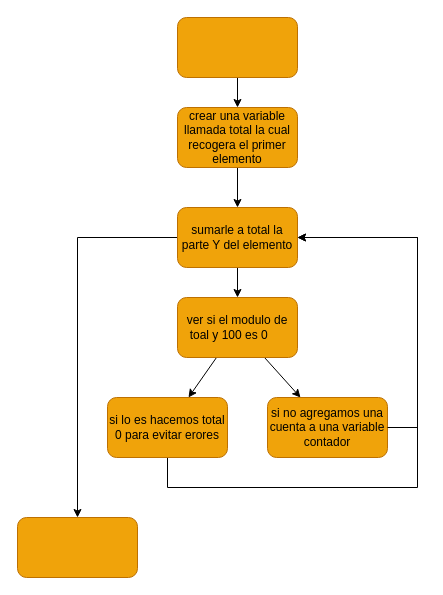
Some shapes in this 443 by 595 pixel diagram are drawn without their labels. The shapes that lost their labels are listed below. From the top down, each one's centre as x and y in pixels, then its label:
the point at 237,47: crear las variables
the point at 77,547: cuando termine N imprime el contador
